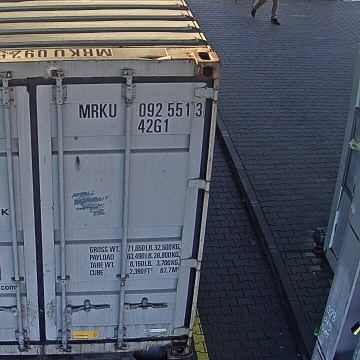serial_id: (79, 103, 203, 117)
